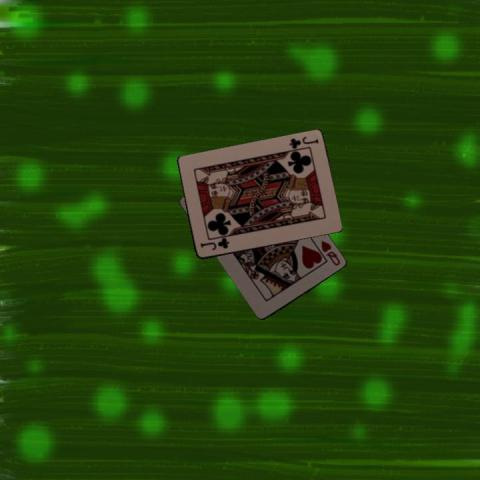Jc: (286, 133, 320, 151), (197, 236, 231, 252)
Qh: (318, 237, 342, 268)
